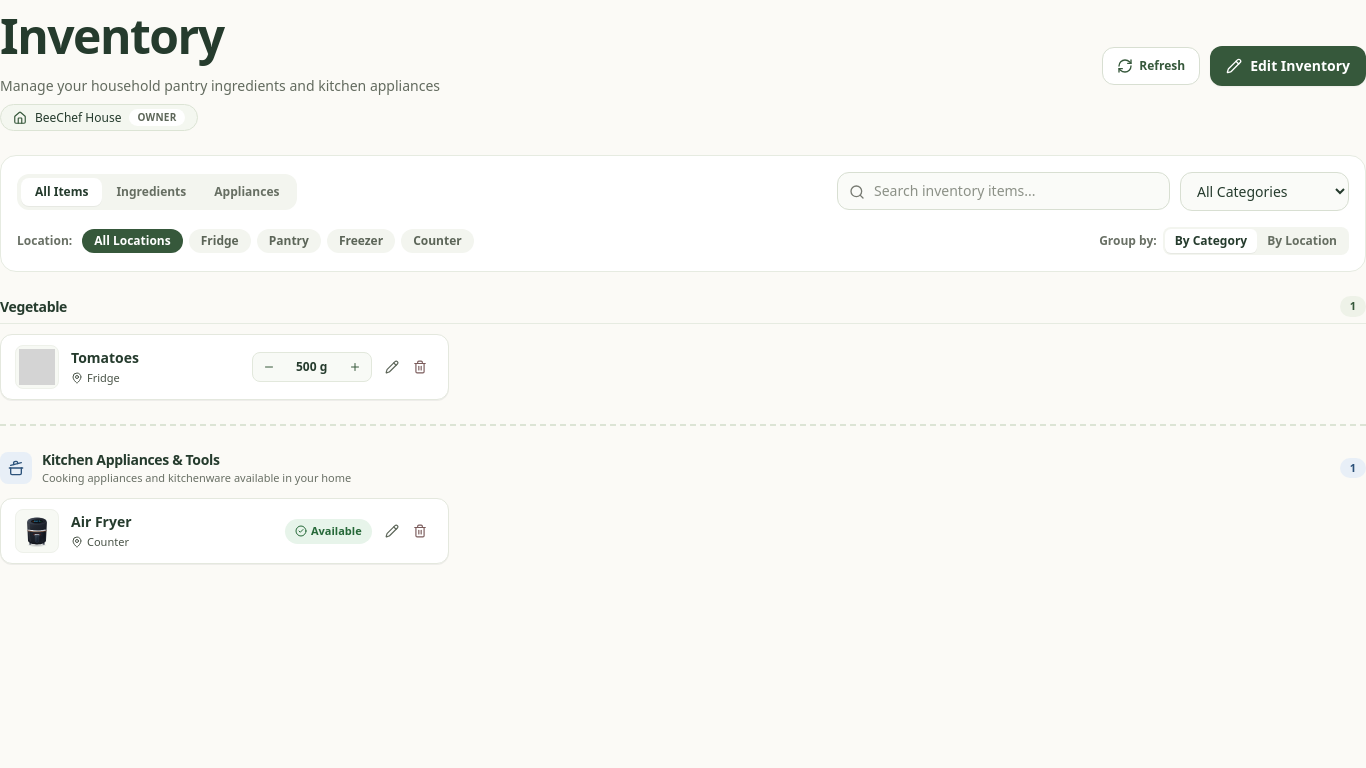
Test: InventoryPage UI and API integration › updates existing stock in edit mode and lets search auto-expand categories
The width and height of the screenshot is (1366, 768).
Expected: the text "500 g" is shown, x1=296 y1=358 x2=327 y2=375
Click the button "Edit Inventory" at (1288, 66), box x1=1210 y1=46 x2=1365 y2=86
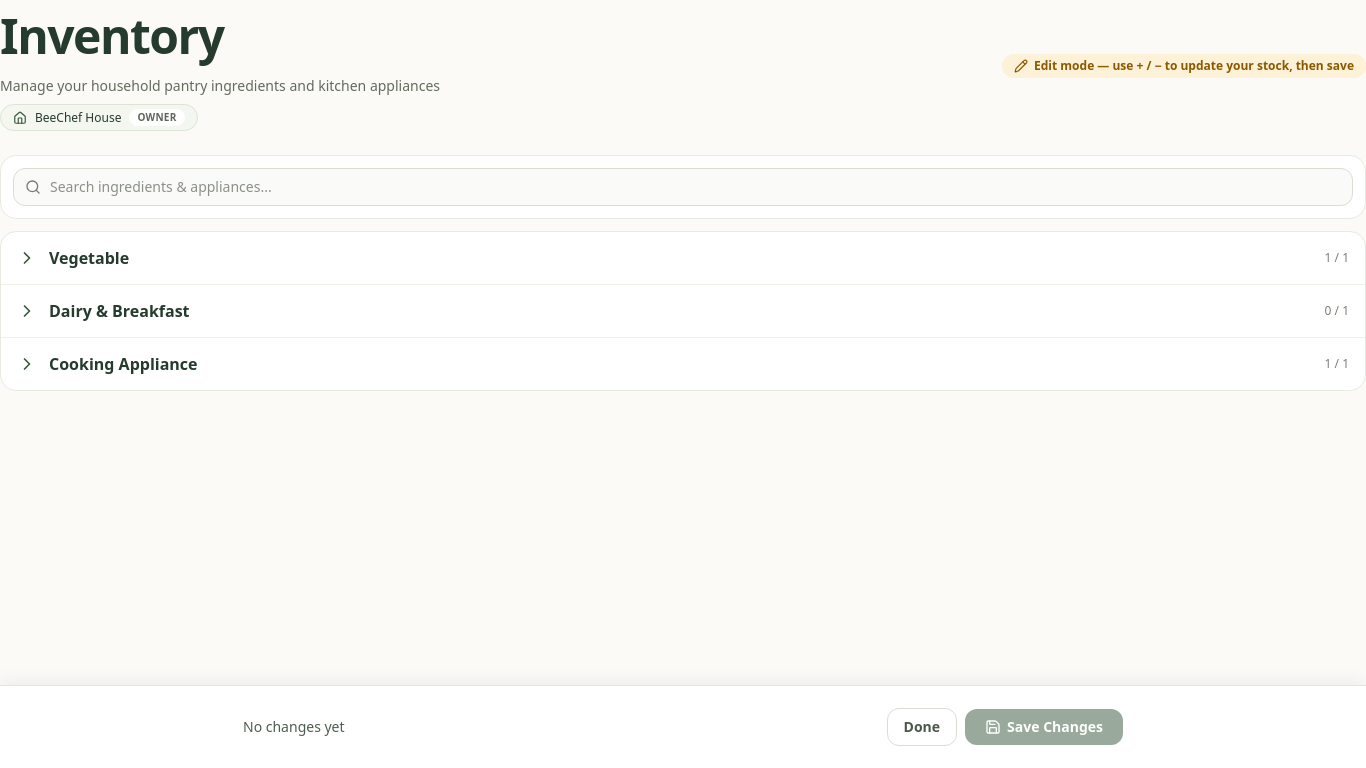
Type "tom" into the field named "Search catalog" at (683, 187), box x1=13 y1=168 x2=1353 y2=206
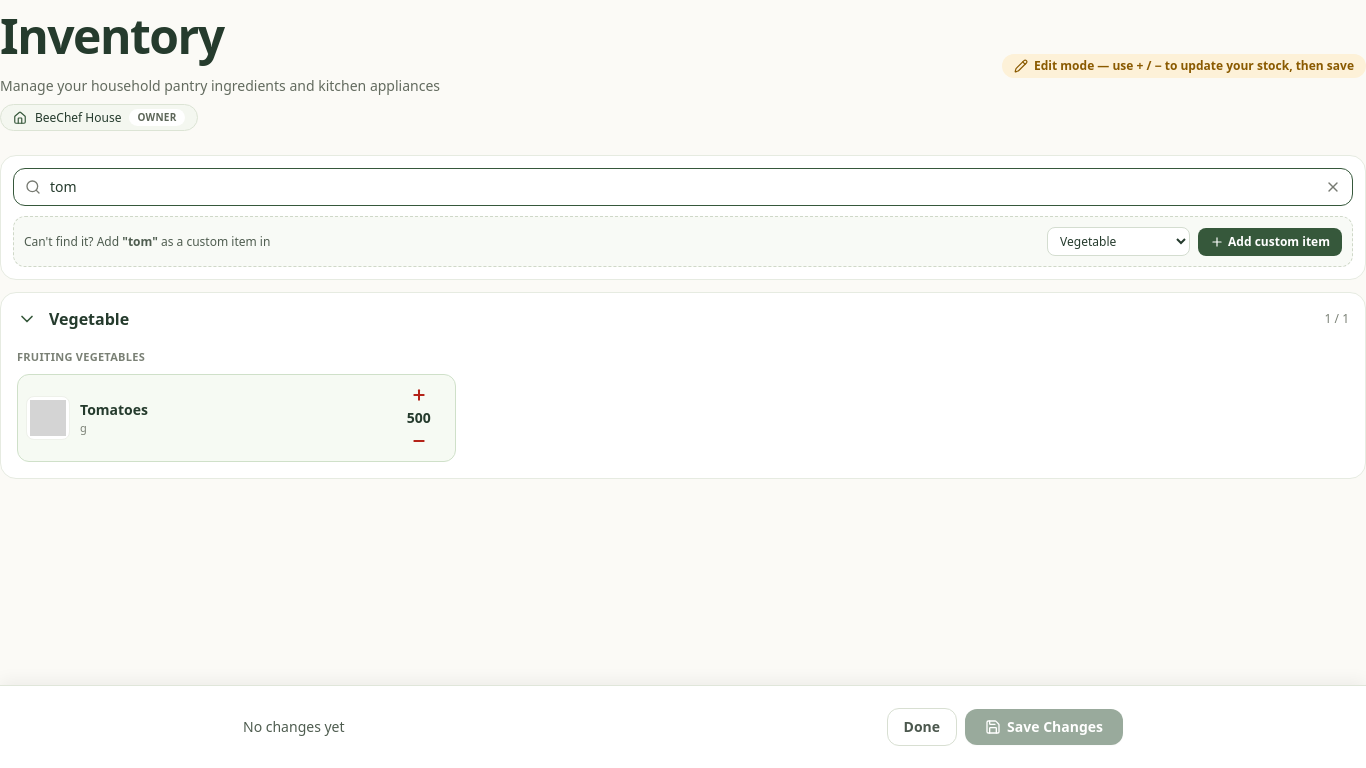
Result: the number field named "Tomatoes quantity" holds "500" at x1=391 y1=407 x2=447 y2=429
Click the button named "Decrease Tomatoes" at (419, 441), box x1=403 y1=429 x2=435 y2=453
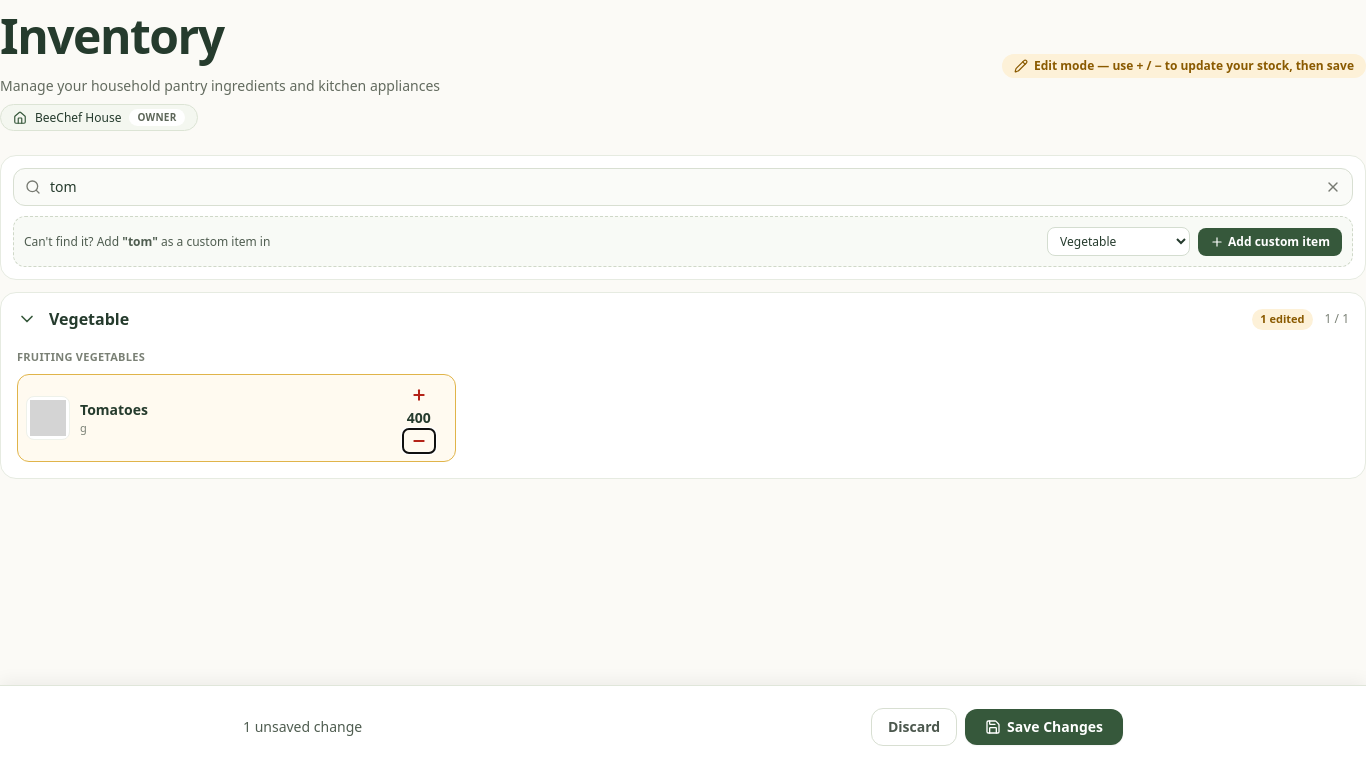
Result: the number field named "Tomatoes quantity" holds "400" at x1=391 y1=407 x2=447 y2=429
# Appliance toggle (search for it)
Replace the text in the field named "Search catalog" with "air" at (683, 187), box x1=13 y1=168 x2=1353 y2=206
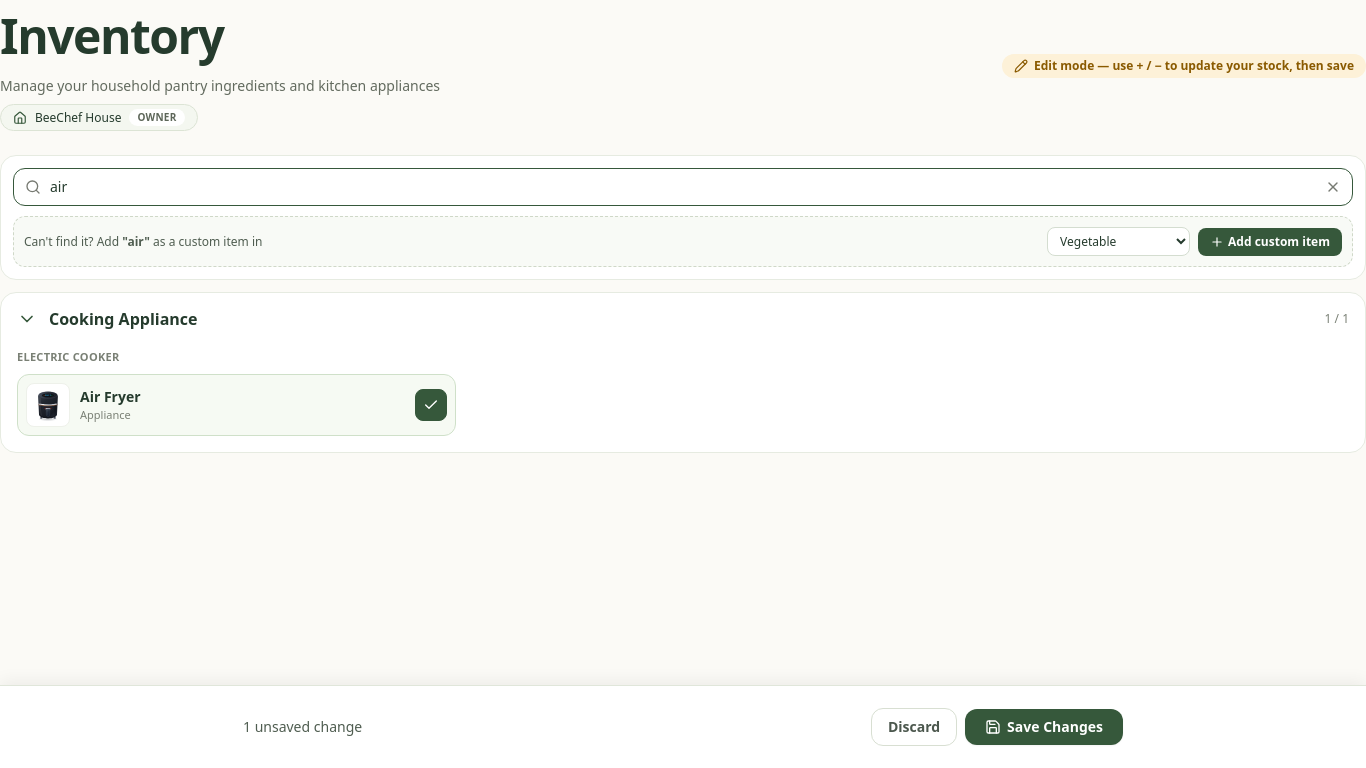
Click the switch named "Toggle Air Fryer" at (431, 405), box x1=415 y1=389 x2=447 y2=421
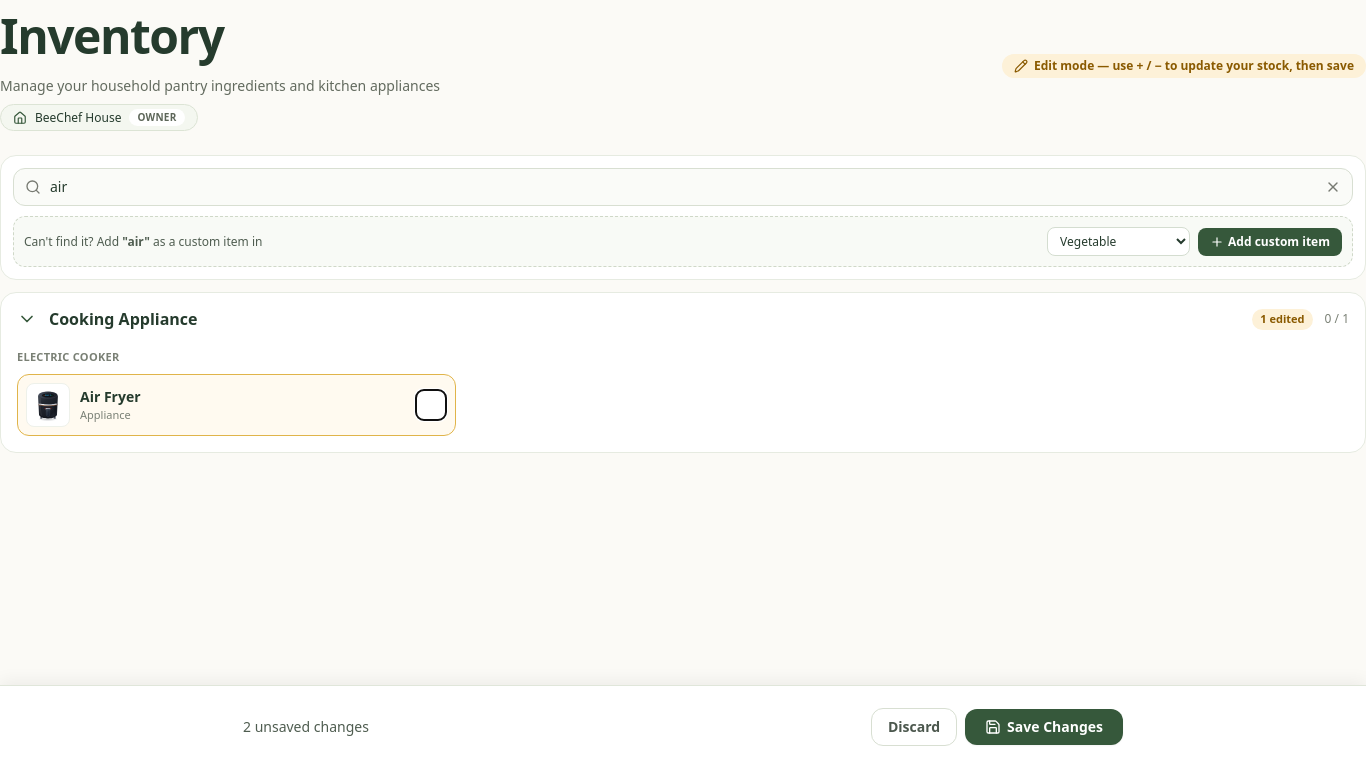
Result: the switch named "Toggle Air Fryer" is not checked at x1=415 y1=389 x2=447 y2=421
Click the button "Save Changes" at (1044, 727), box x1=965 y1=709 x2=1123 y2=745
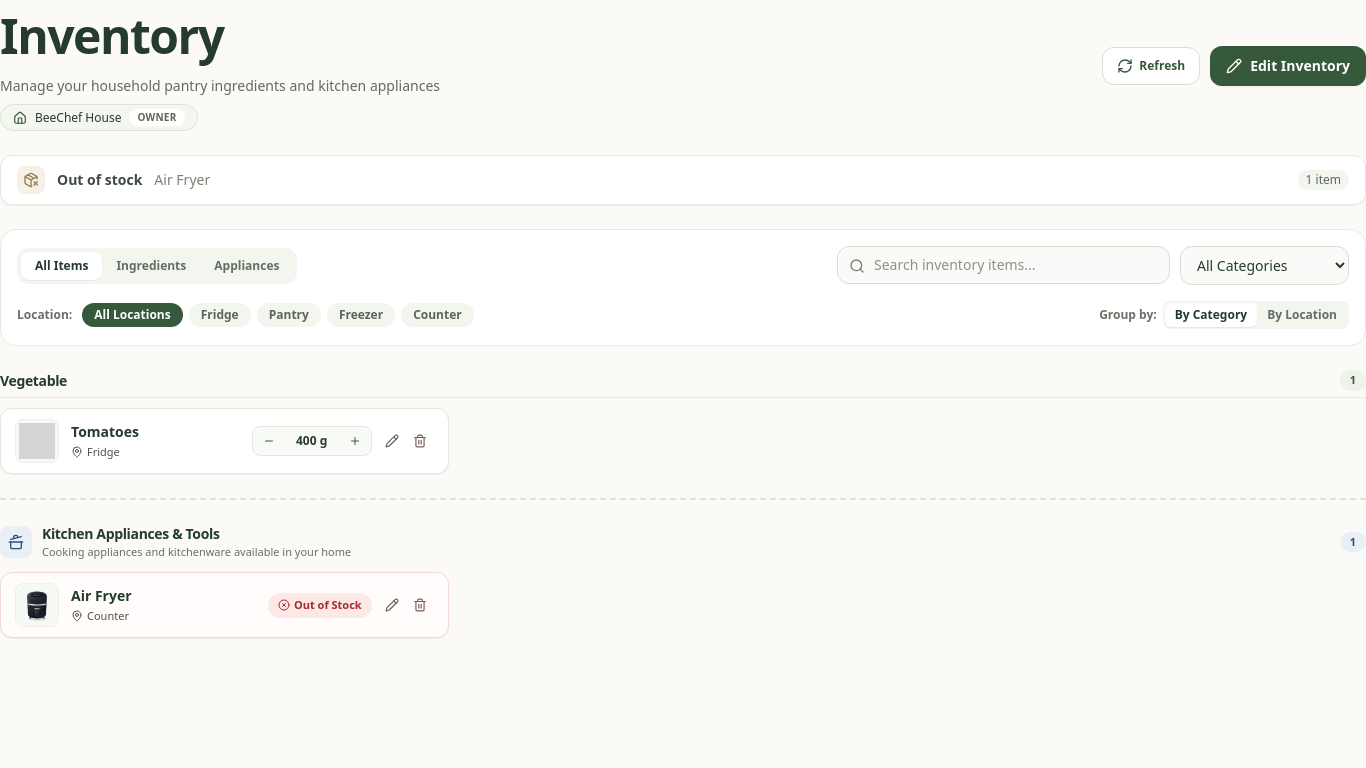
Result: the text "400 g" is shown at x1=296 y1=432 x2=327 y2=449
